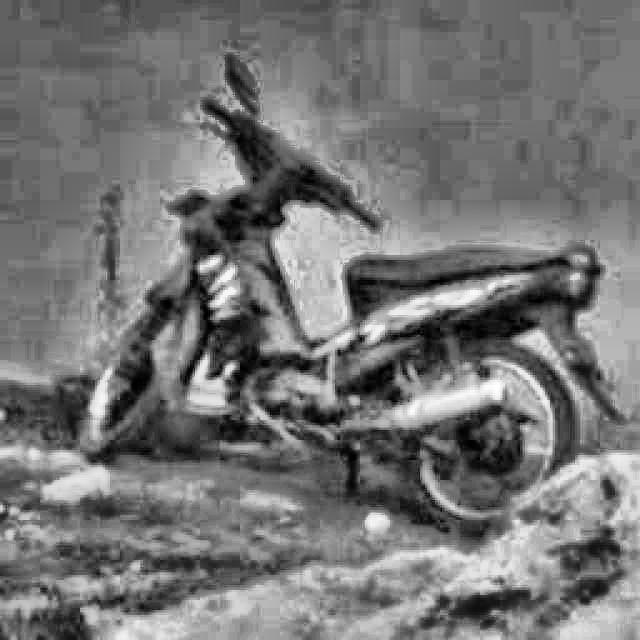motorcycle: (68, 43, 592, 536)
